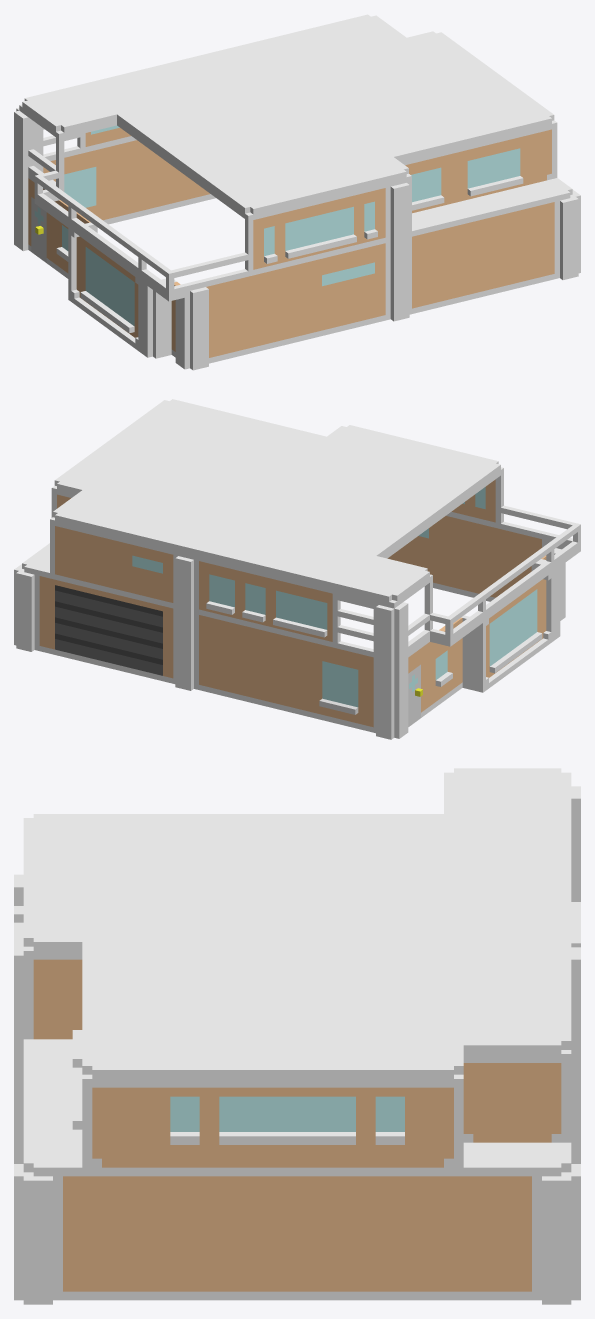
The model's file is LO_outside.glb.
3 renders of one model, top to bottom at view 1: azimuth 30°, elevation 25°; view 2: azimuth 150°, elevation 25°; view 3: azimuth 270°, elevation 25°, orthographic. The views are drawn at different scales.
Visible parts, largest first — view 1: Untitled, Untitled.001; view 2: Untitled, Untitled.001; view 3: Untitled, Untitled.001.
Boxes of the visible parts, x1,y1,x2,y2 form: Untitled: (14, 14, 580, 370); Untitled.001: (34, 125, 520, 326); Untitled: (14, 399, 580, 739); Untitled.001: (132, 487, 537, 707); Untitled: (14, 768, 580, 1304); Untitled.001: (170, 1096, 404, 1131).
Bounding box in the file's own units: 7.8 × 2.6 × 5.8.
3 materials, 2 textured.
